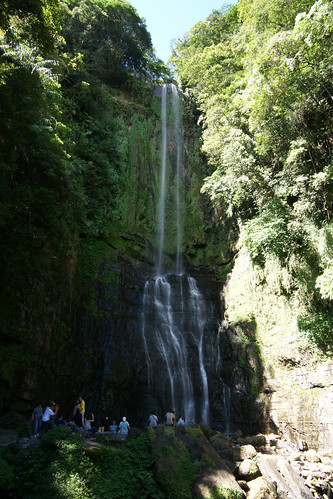wufengciWaterfall: (106, 77, 239, 439)
